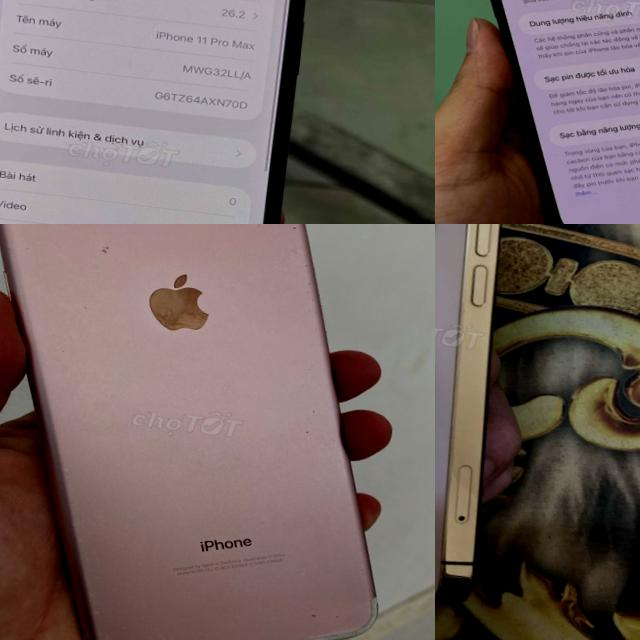gen_11: (0, 0, 321, 224)
gen_12_13: (435, 224, 564, 613)
gen_14: (435, 0, 640, 224)
gen_7_8: (0, 224, 435, 640)
scratch: (0, 224, 332, 293), (287, 391, 353, 463), (287, 591, 381, 640)
